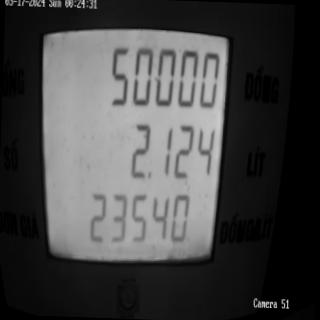screen: (28, 0, 238, 296)
